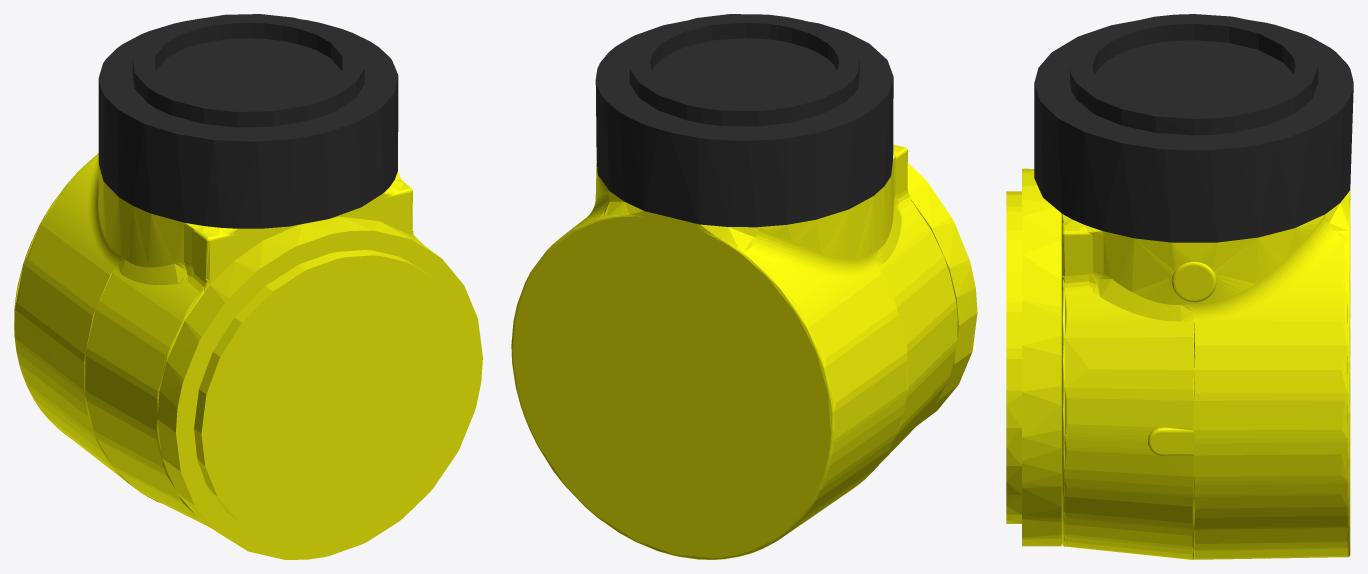
3 renders of one model, left to right at view 1: azimuth 30°, elevation 25°; view 2: azimuth 150°, elevation 25°; view 3: azimuth 270°, elevation 25°, orthographic. The views are drawn at different scales.
Visible parts, largest first — view 1: node; view 2: node; view 3: node.
Boxes of the visible parts, x1,y1,x2,y2 form: node: [14, 14, 482, 559]; node: [511, 14, 977, 559]; node: [1006, 14, 1353, 559].
Bounding box in the file's own units: 118 × 152 × 101.
